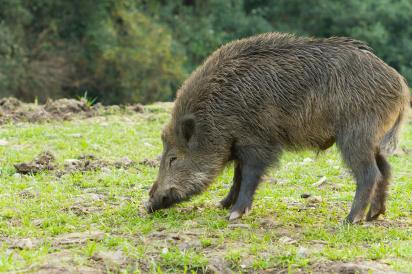boar: (140, 27, 409, 228)
